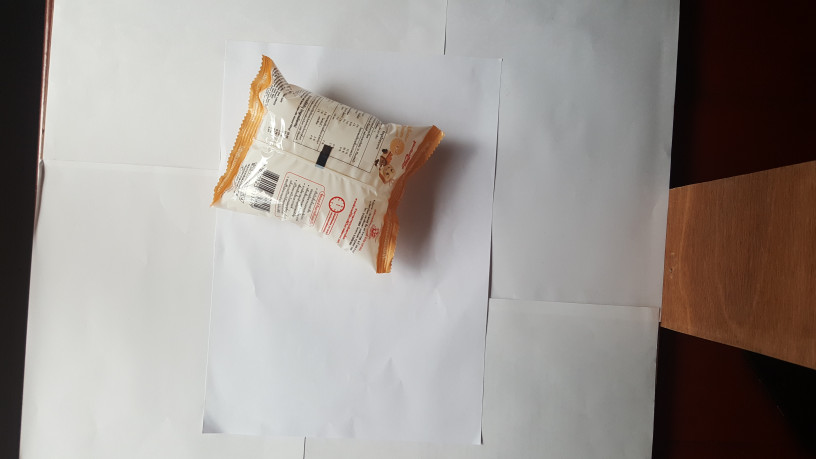farmhouse-sweetsandwich-almond: (208, 54, 447, 274)
